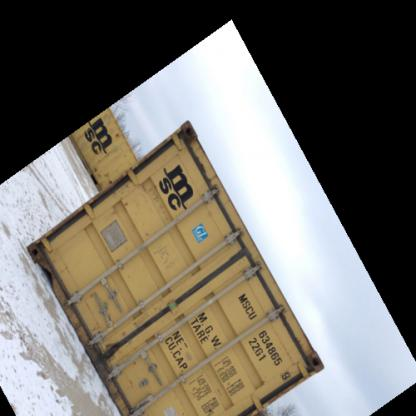Damage: (96, 320, 151, 364), (289, 308, 324, 376), (181, 119, 214, 187), (61, 285, 97, 339)
